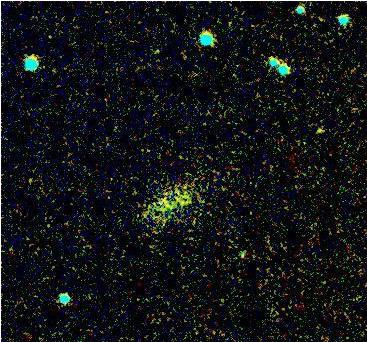star: (303, 117, 333, 147)
